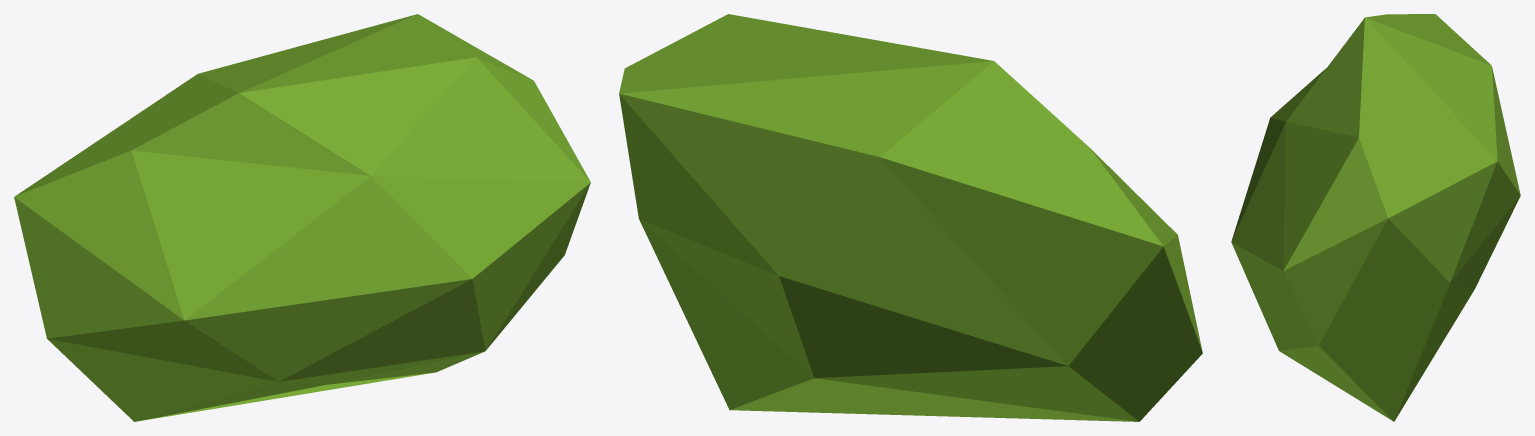
File: Natures2p5-green.fbx
The picture shows the model from 3 angles, left to right: view 1: azimuth 30°, elevation 25°; view 2: azimuth 150°, elevation 25°; view 3: azimuth 270°, elevation 25°; orthographic projection. The views are drawn at different scales.
Parts seen in each view (by area): view 1: p5-green; view 2: p5-green; view 3: p5-green.
Boxes of the visible parts, left/top/right/bottom form: p5-green: left=14, top=14, right=590, bottom=421; p5-green: left=619, top=14, right=1202, bottom=421; p5-green: left=1231, top=14, right=1520, bottom=421.
Size of the model in its own units: 336 by 223 by 188.
